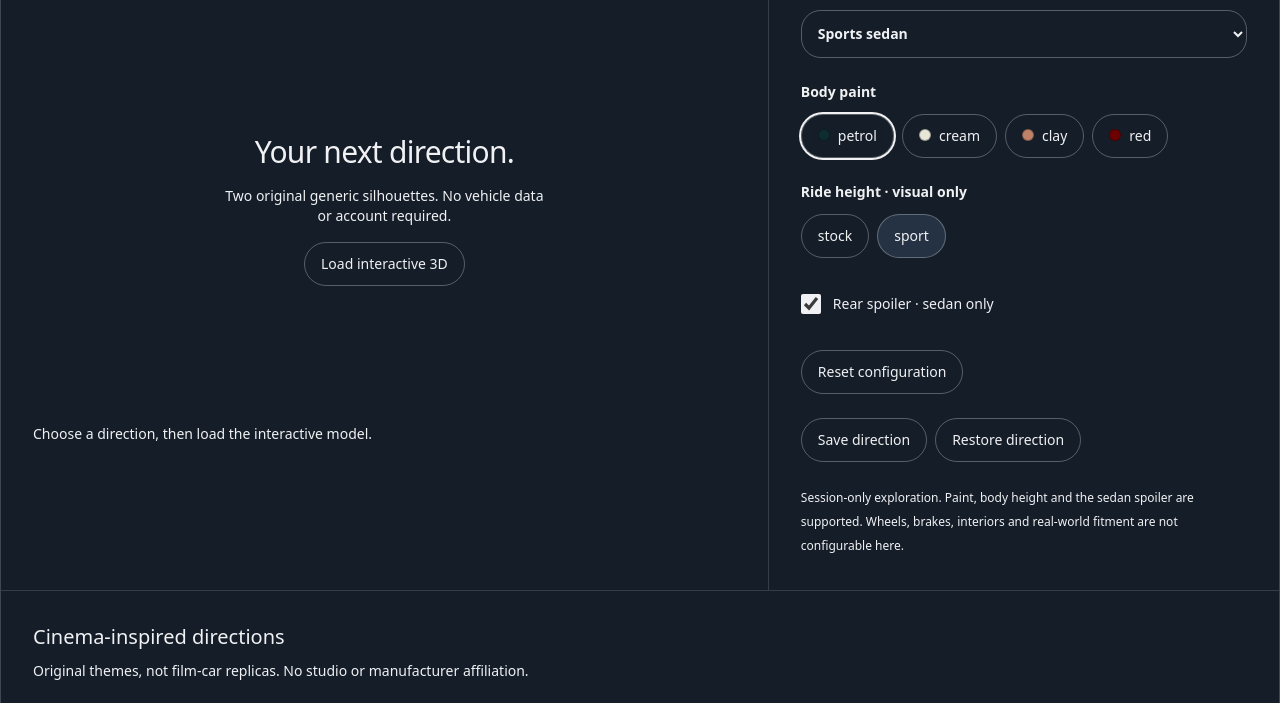
Test: showcase directions › handles a malformed saved direction without crashing
(page scrolled)
Click the button "Restore direction" at (1008, 440), box [935,418,1081,462]
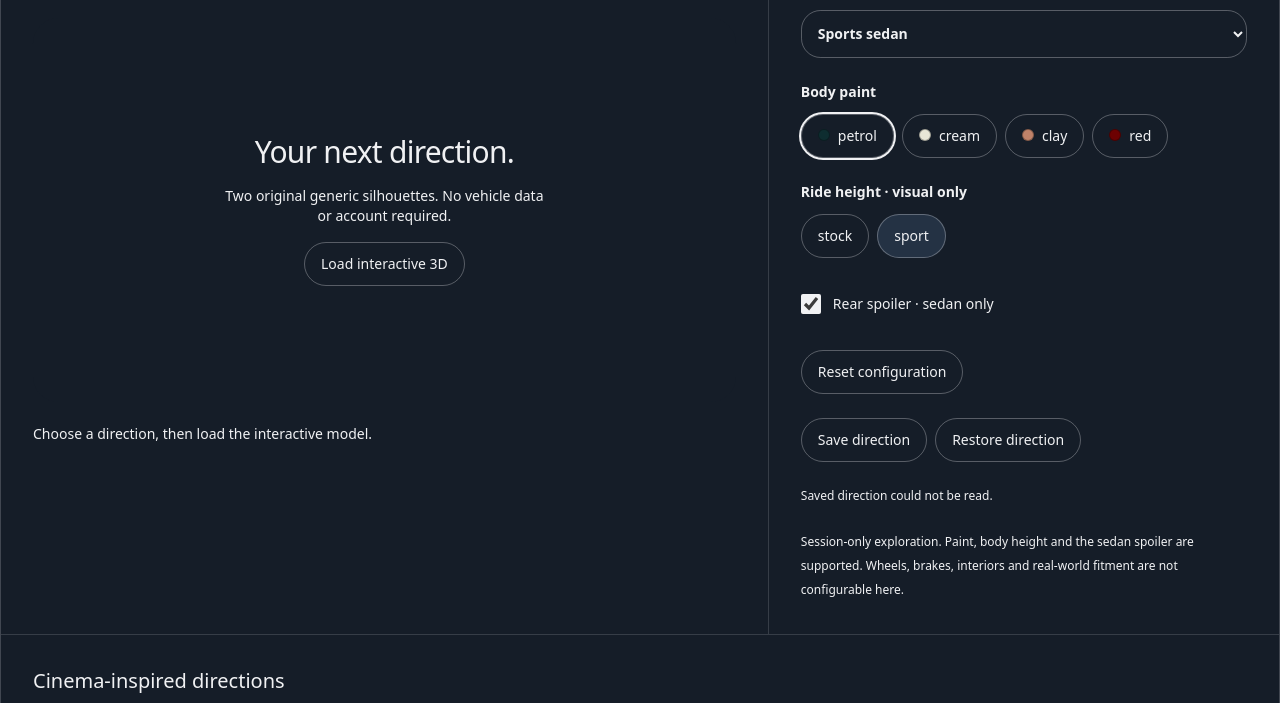
Expected: the text "Saved direction could not be read." is shown, [801,487,993,504]
